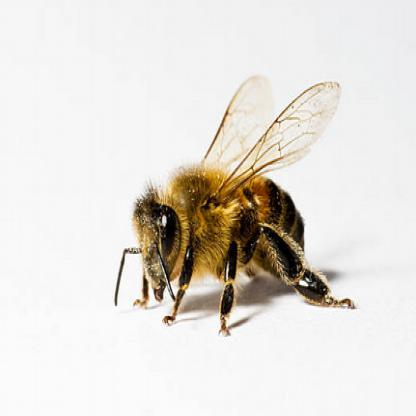other: (110, 69, 365, 343)
